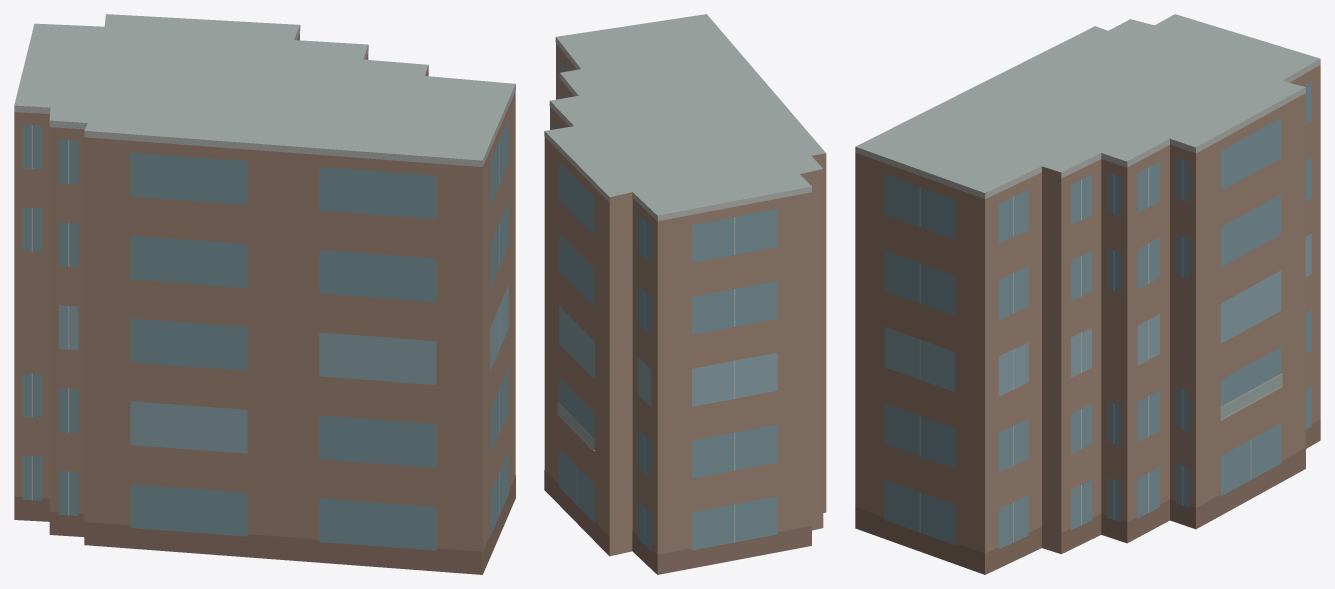
The model's file is survey-upis-32870491.glb.
The picture shows the model from 3 angles, left to right: view 1: azimuth 30°, elevation 25°; view 2: azimuth 150°, elevation 25°; view 3: azimuth 270°, elevation 25°; orthographic projection. The views are drawn at different scales.
Visible parts, largest first — view 1: survey-upis-32870491.tmp; view 2: survey-upis-32870491.tmp; view 3: survey-upis-32870491.tmp.
Boxes of the visible parts, x1=… form: survey-upis-32870491.tmp: x1=14, y1=14, x2=515, y2=574; survey-upis-32870491.tmp: x1=544, y1=14, x2=826, y2=574; survey-upis-32870491.tmp: x1=855, y1=14, x2=1320, y2=574.
Bounding box in the file's own units: 15.61 × 15.5 × 17.14.
